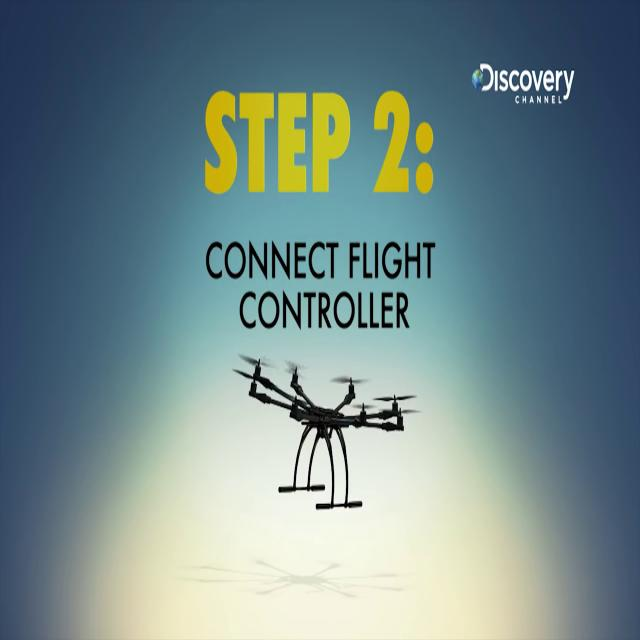drone: (239, 342, 409, 525)
